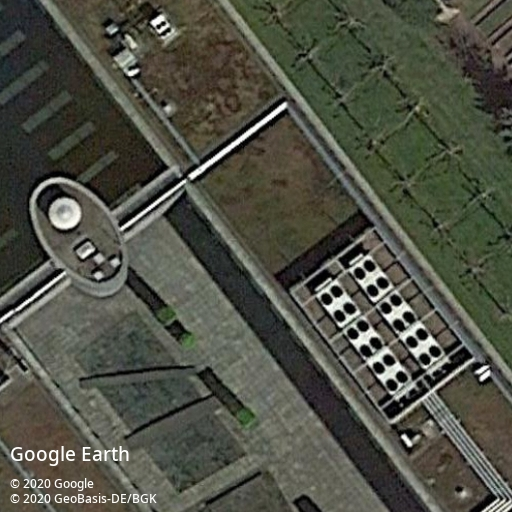Chiller: (376, 289, 445, 371), (343, 315, 412, 395), (348, 253, 396, 303), (314, 278, 361, 328), (150, 14, 175, 40)
